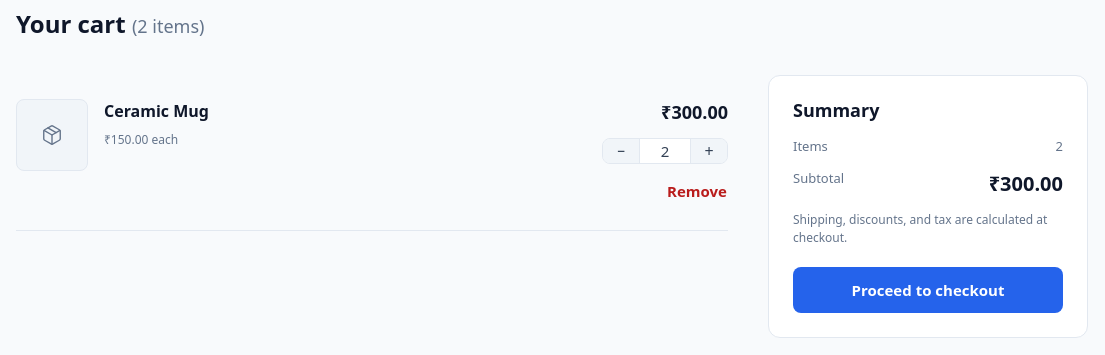
Test: CartPage › disables the quantity steppers and Remove while a mutation is in flight
The width and height of the screenshot is (1105, 355).
expect the text "Ceramic Mug" is shown: met, box [104,100,209,122]
Step 1. Click the button named "increase" → (709, 151), box [691,139,727,163]
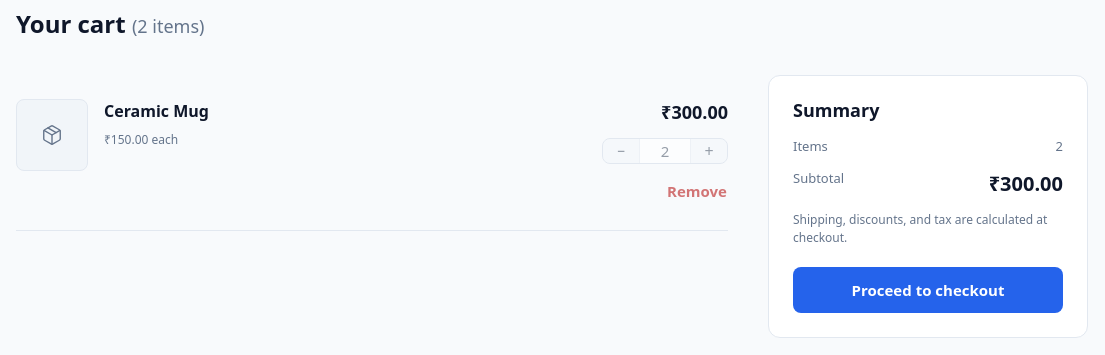
expect the button "Remove" is disabled: met, box [666,176,728,206]
expect the button named "increase" is disabled: met, box [691,139,727,163]
expect the button named "decrease" is disabled: met, box [603,139,639,163]
